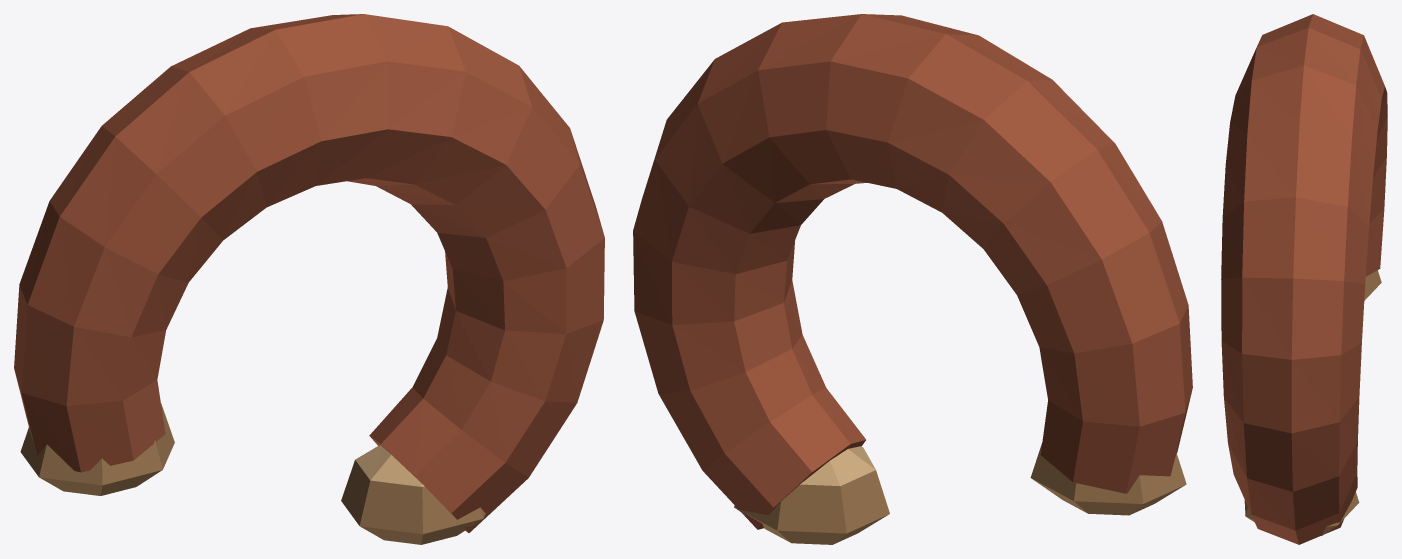
Rendered from duenenmeer_07.glb.
The picture shows the model from 3 angles, left to right: view 1: azimuth 30°, elevation 25°; view 2: azimuth 150°, elevation 25°; view 3: azimuth 270°, elevation 25°; orthographic projection. The views are drawn at different scales.
Parts seen in each view (by area): view 1: duenenmeer_07; view 2: duenenmeer_07; view 3: duenenmeer_07.
Part boxes in pixels (x1=…): duenenmeer_07: x1=14, y1=14, x2=604, y2=544; duenenmeer_07: x1=633, y1=14, x2=1192, y2=544; duenenmeer_07: x1=1221, y1=14, x2=1387, y2=544.
Bounding box in the file's own units: 2 × 1.83 × 0.6221.
